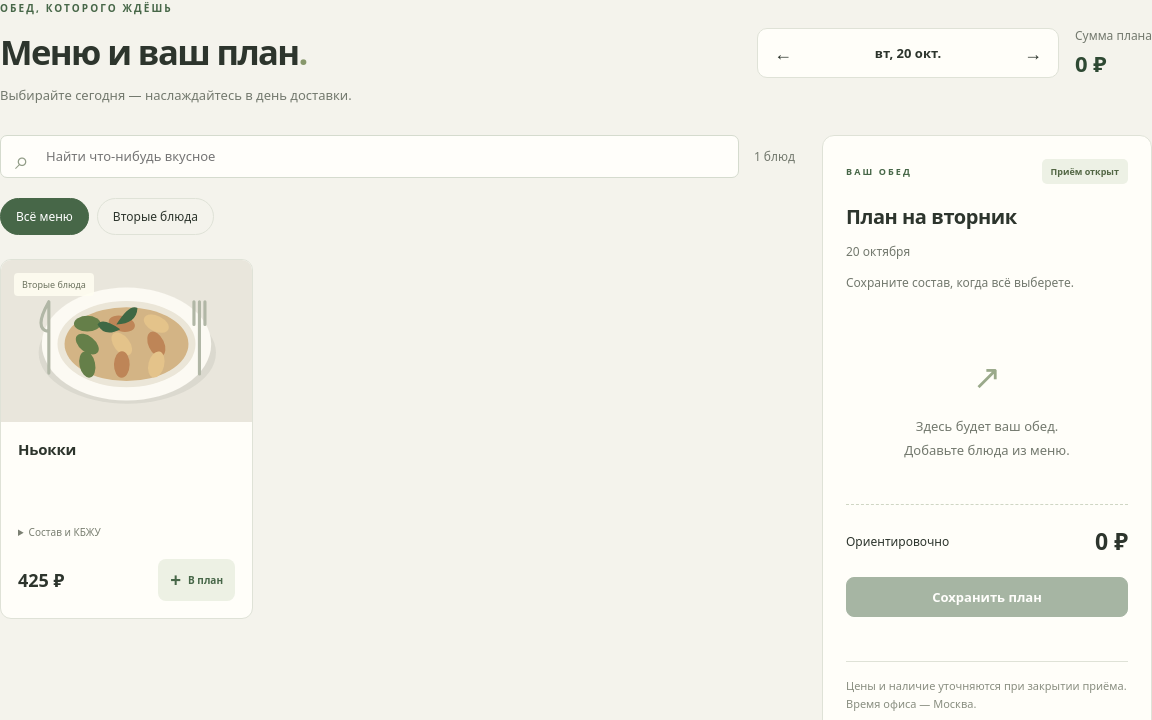
Test: shows the authoritative saved composition after cutoff rejects a dirty draft
Click the button with aria-label "Добавить Ньокки": {"x": 197, "y": 580} x1=158 y1=559 x2=235 y2=601
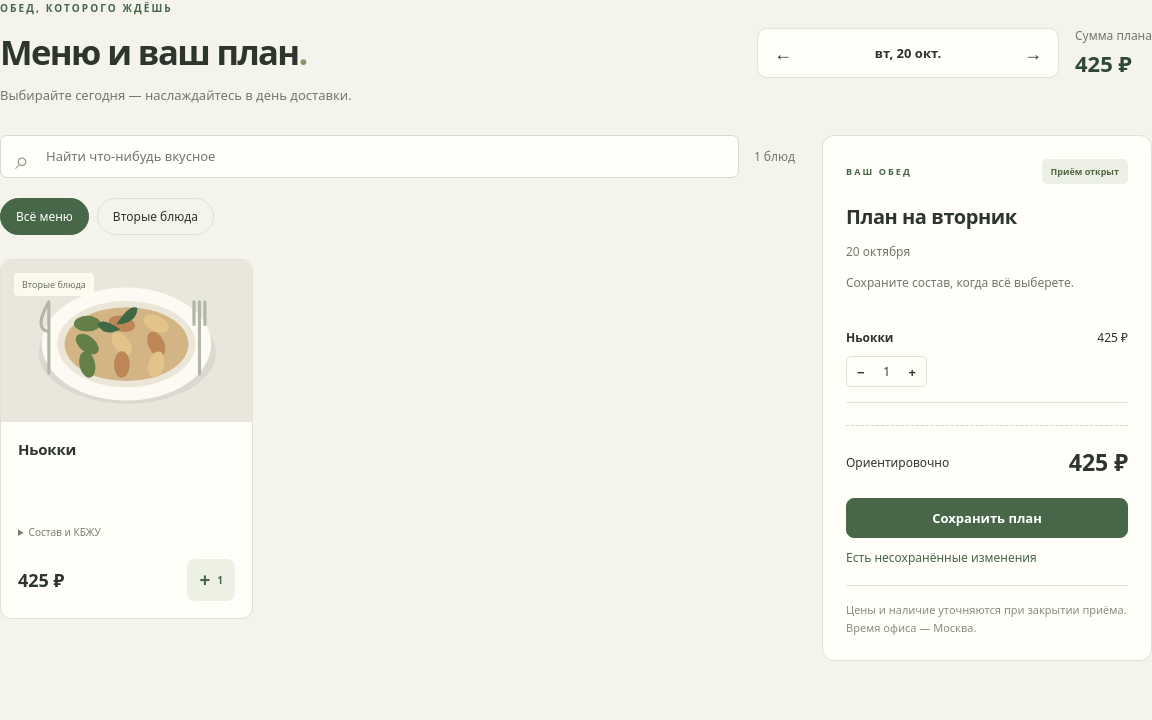
Click the button "Сохранить план": {"x": 987, "y": 518} x1=846 y1=498 x2=1128 y2=538
(page scrolled)
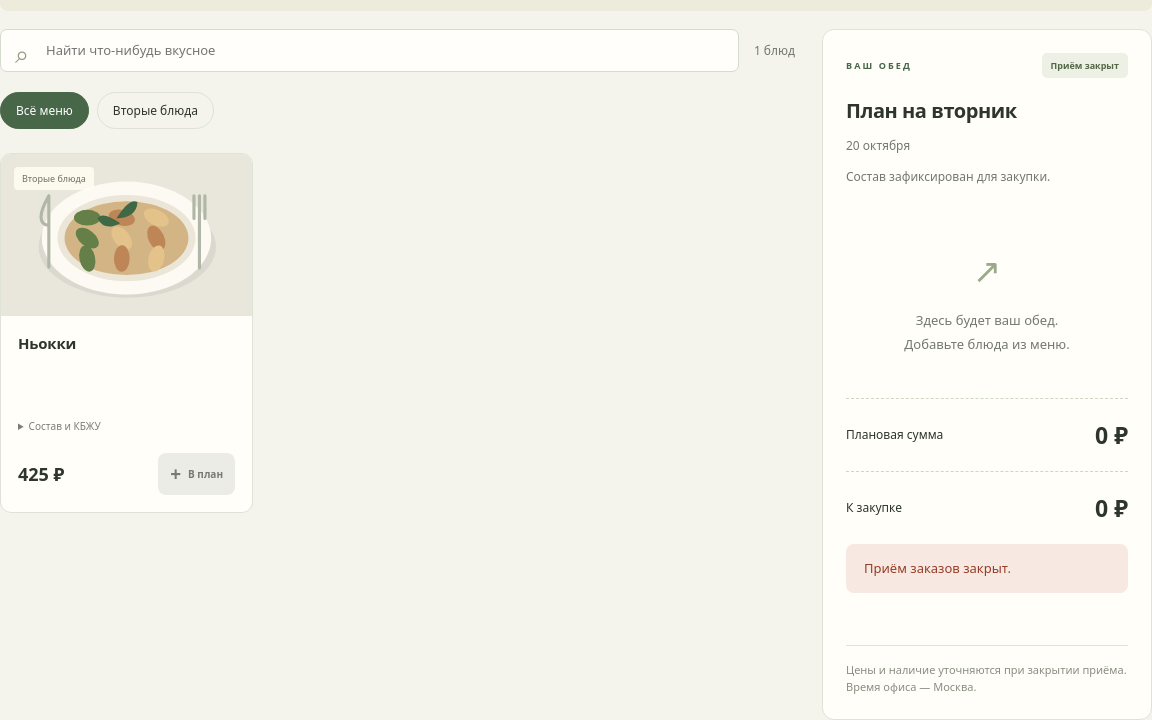
Check: the text "Приём заказов закрыт." is shown, box x1=846 y1=544 x2=1128 y2=593
Check: the text "Есть несохранённые изменения" is gone
